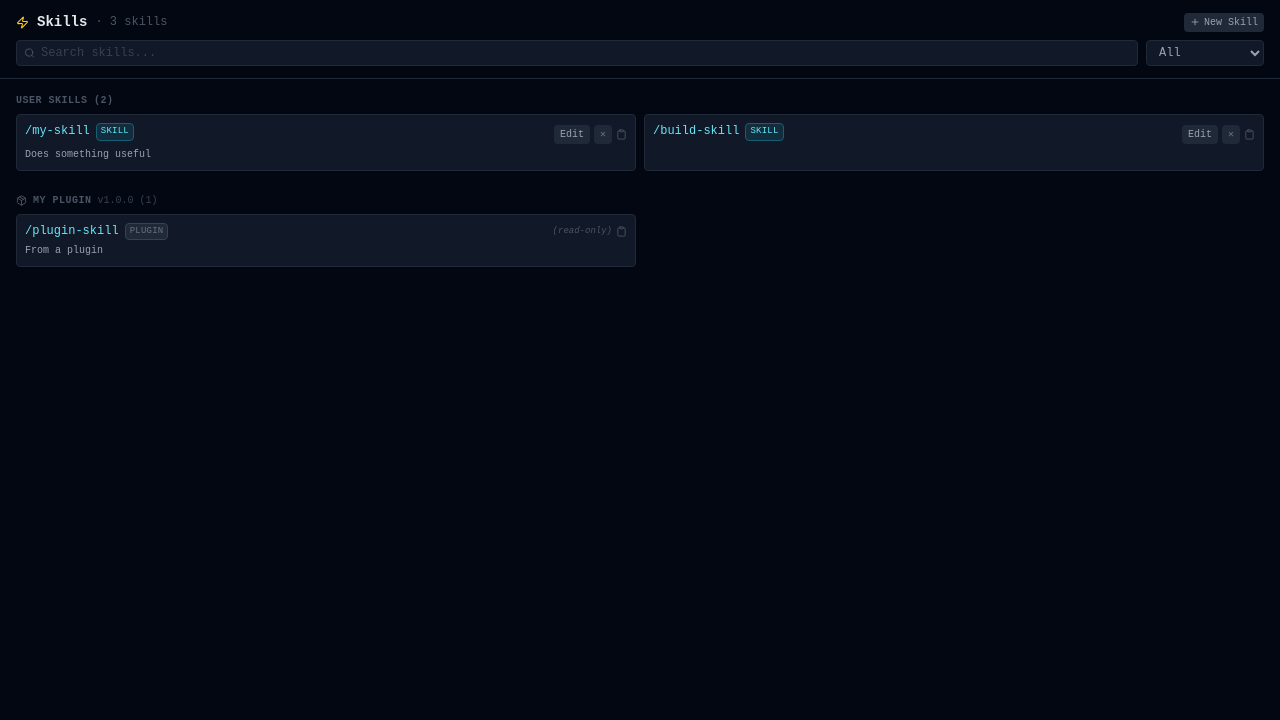
SkillsPanel — new skill form › clicking "New Skill" button shows the form
The image size is (1280, 720).
Click the button titled "Create new skill".
click(1224, 22)  # box [1184,12,1264,32]
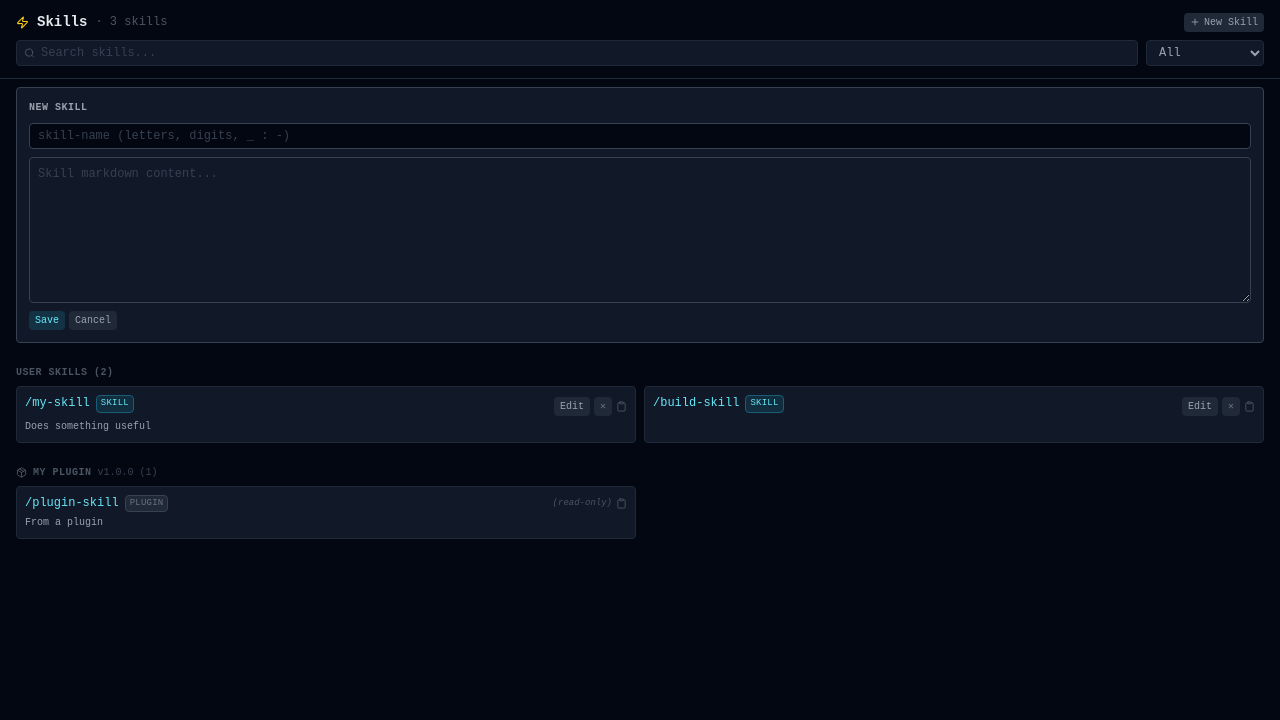
Check: the field with placeholder "skill-name (letters, digits, _ : -)" is shown, box [29,123,1251,149]
Check: the text box with placeholder "Skill markdown content..." is shown, box [29,157,1251,303]
